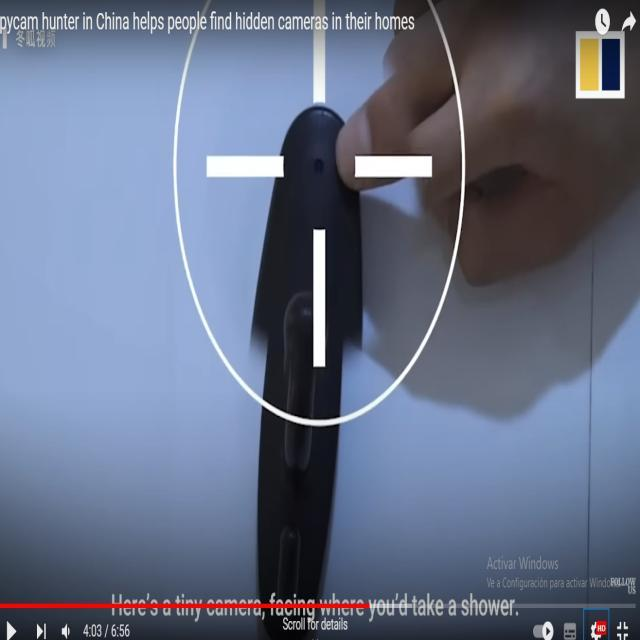hidden camera: (310, 150, 328, 181)
